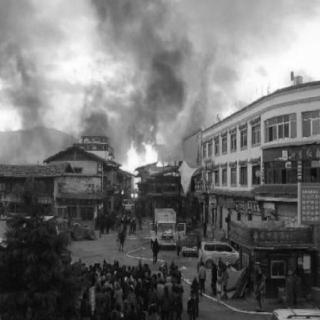Fire: (123, 136, 157, 180)
